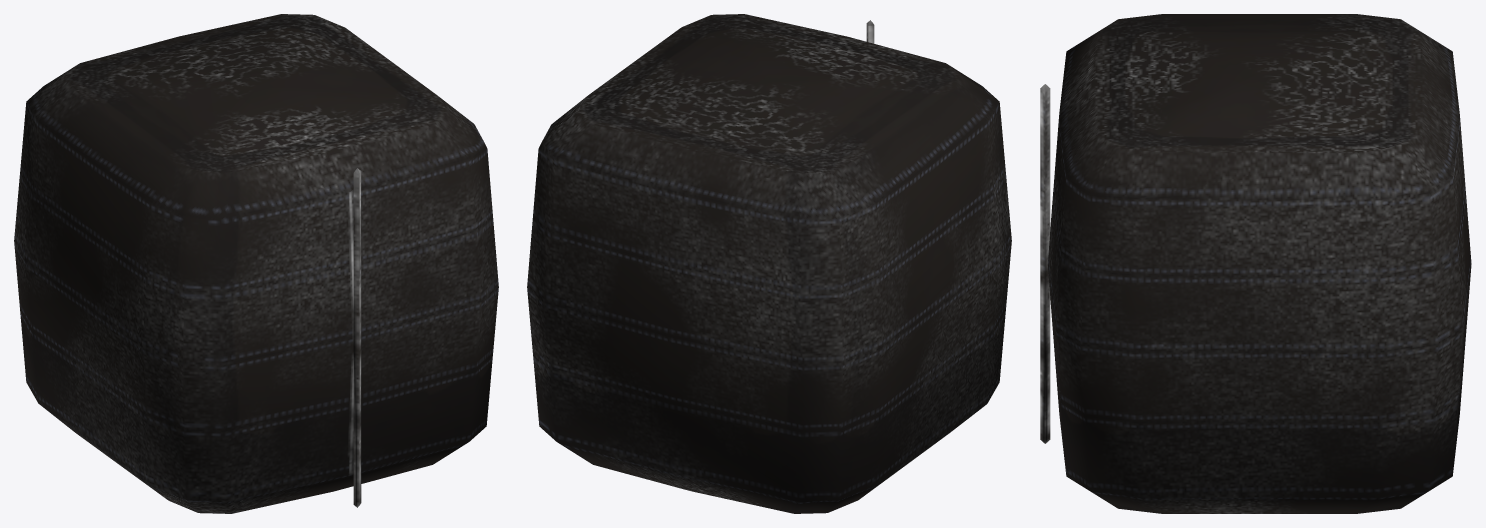
The model's file is MatonImp_MangaArribaIzq.fbx.
The picture shows the model from 3 angles, left to right: view 1: azimuth 30°, elevation 25°; view 2: azimuth 150°, elevation 25°; view 3: azimuth 270°, elevation 25°; orthographic projection. The views are drawn at different scales.
Visible parts, largest first — view 1: MatonImp_MangaArribaIzq; view 2: MatonImp_MangaArribaIzq; view 3: MatonImp_MangaArribaIzq.
Part boxes in pixels (x1=…): MatonImp_MangaArribaIzq: x1=14, y1=14, x2=498, y2=513; MatonImp_MangaArribaIzq: x1=527, y1=14, x2=1011, y2=513; MatonImp_MangaArribaIzq: x1=1040, y1=14, x2=1471, y2=513.
Size of the model in its own units: 1.31 by 1.31 by 1.35.
